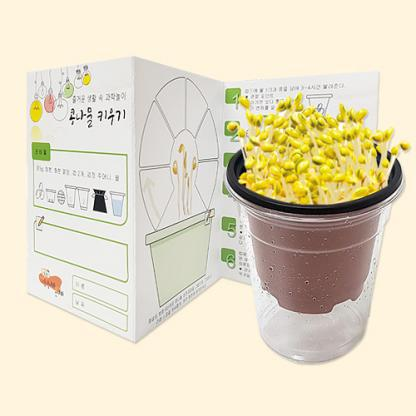bean sprouts: (235, 102, 388, 204)
